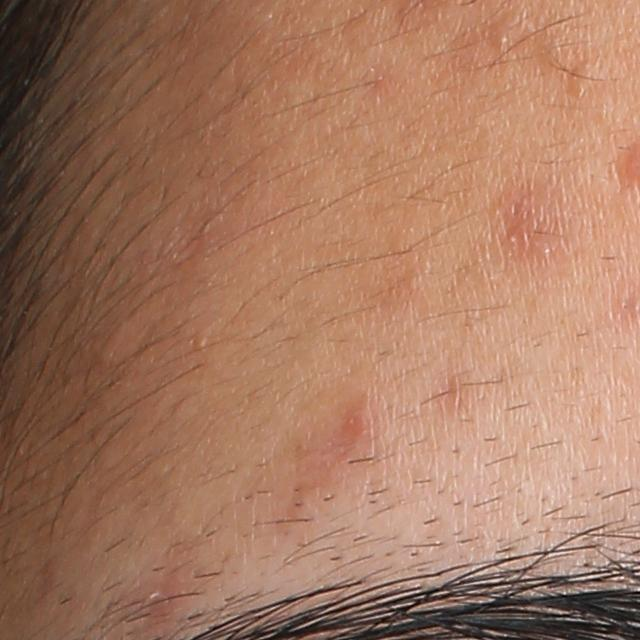comedo: (481, 17, 524, 54), (193, 332, 211, 350)
